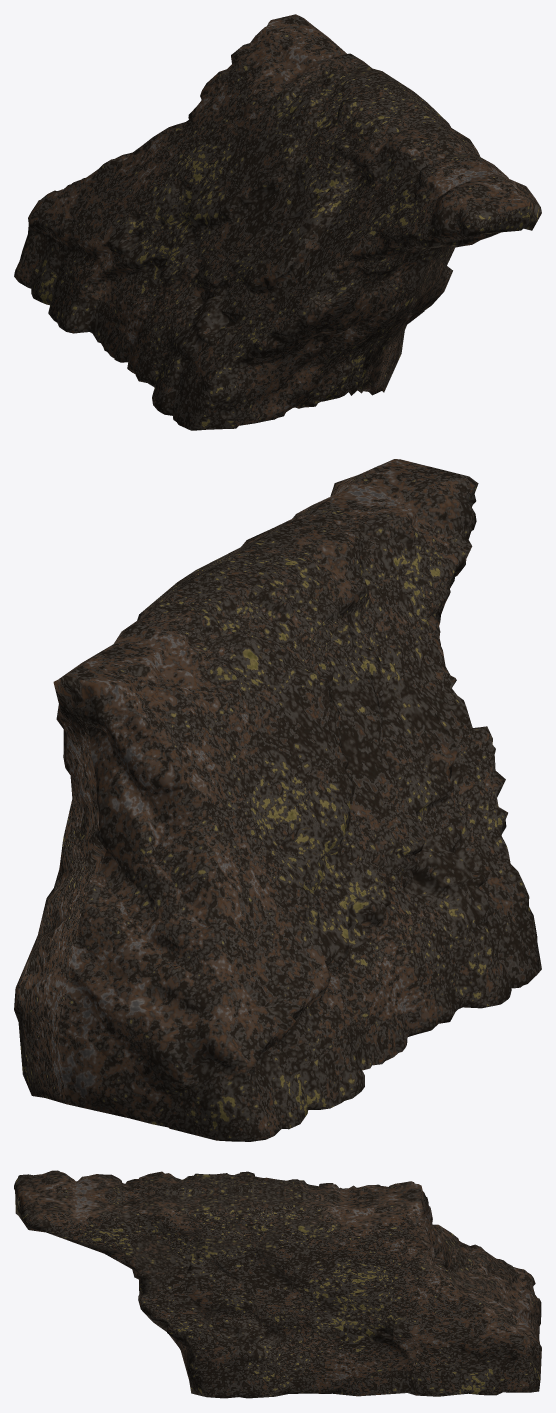
The model's file is SM_cliff_03_brown.fbx.
The picture shows the model from 3 angles, top to bottom: view 1: azimuth 30°, elevation 25°; view 2: azimuth 150°, elevation 25°; view 3: azimuth 270°, elevation 25°; orthographic projection. The views are drawn at different scales.
Parts seen in each view (by area): view 1: SM_cliff_03_brown_LOD0; view 2: SM_cliff_03_brown_LOD0; view 3: SM_cliff_03_brown_LOD0.
Part boxes in pixels (x1,y1,x2,y2): SM_cliff_03_brown_LOD0: [14, 14, 541, 430]; SM_cliff_03_brown_LOD0: [14, 459, 541, 1141]; SM_cliff_03_brown_LOD0: [14, 1170, 541, 1398].
Bounding box in the file's own units: 633 × 1358 × 641.
1 material, 1 textured.
